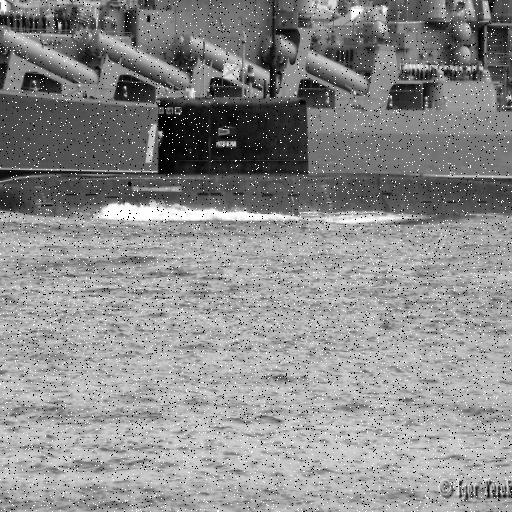submarine: (1, 83, 512, 212)
